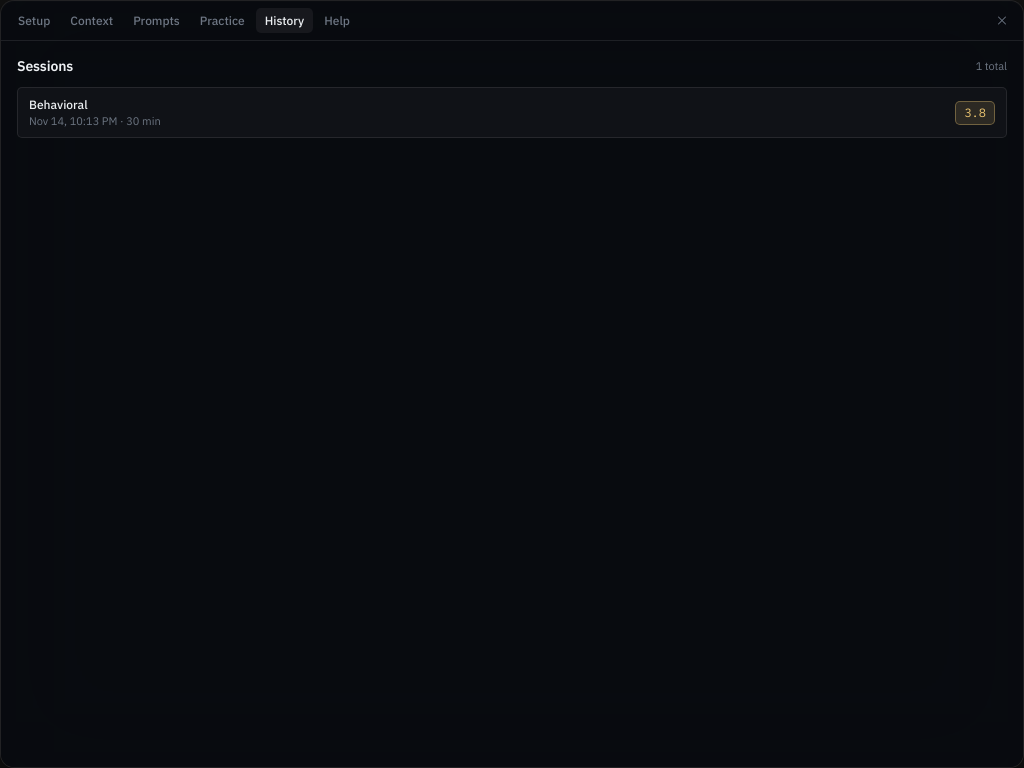
History tab › deleting the open session returns to the list instead of a dead detail view
Click the button with class "session-row": coordinates (58, 104) [17,87,1007,138]
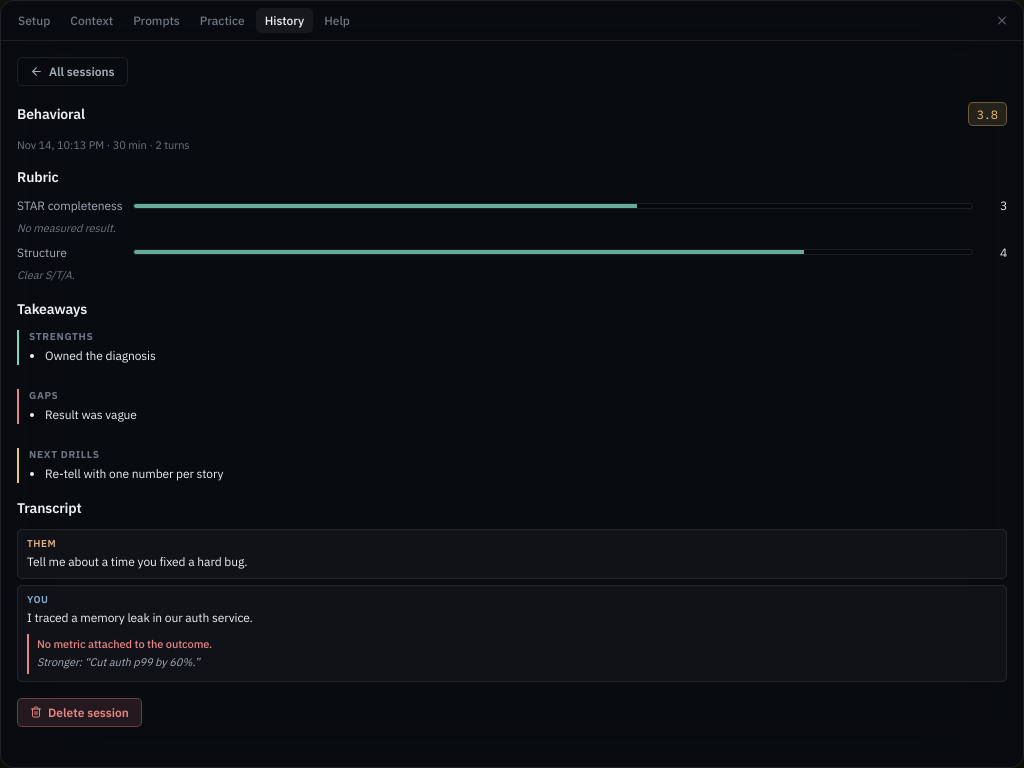
Check: the button "Delete session" is shown
Click the button "Delete session": coordinates (79, 712) [17,698,142,727]
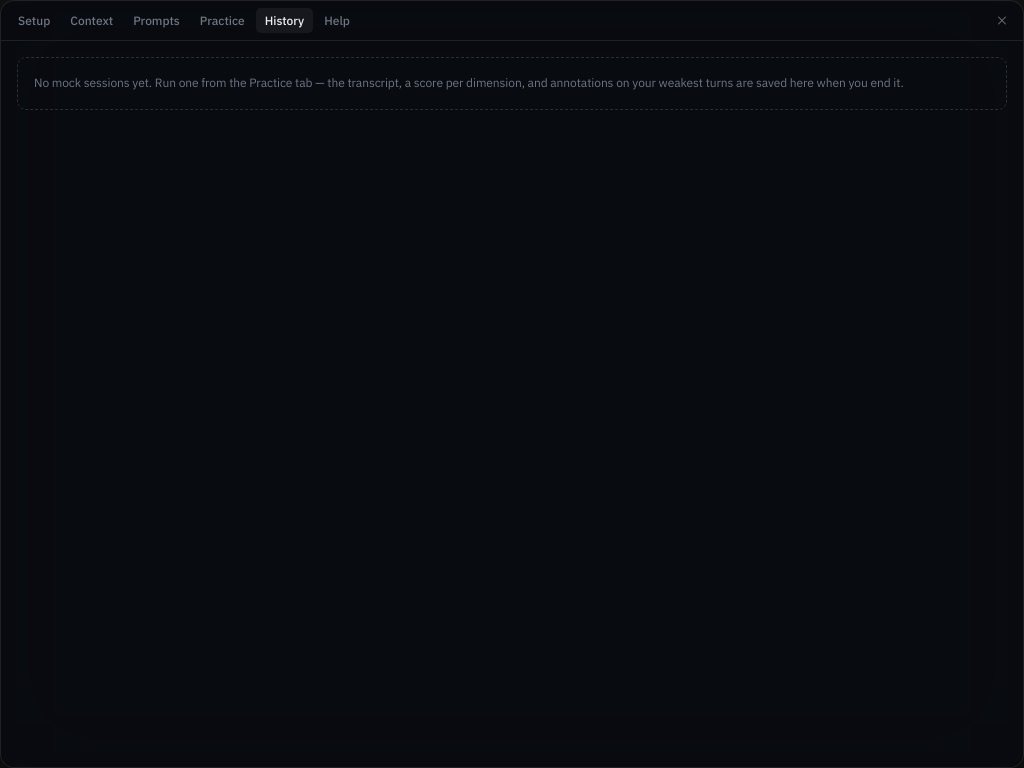
Check: the text "No mock sessions yet" is shown, box [34,75,904,90]
